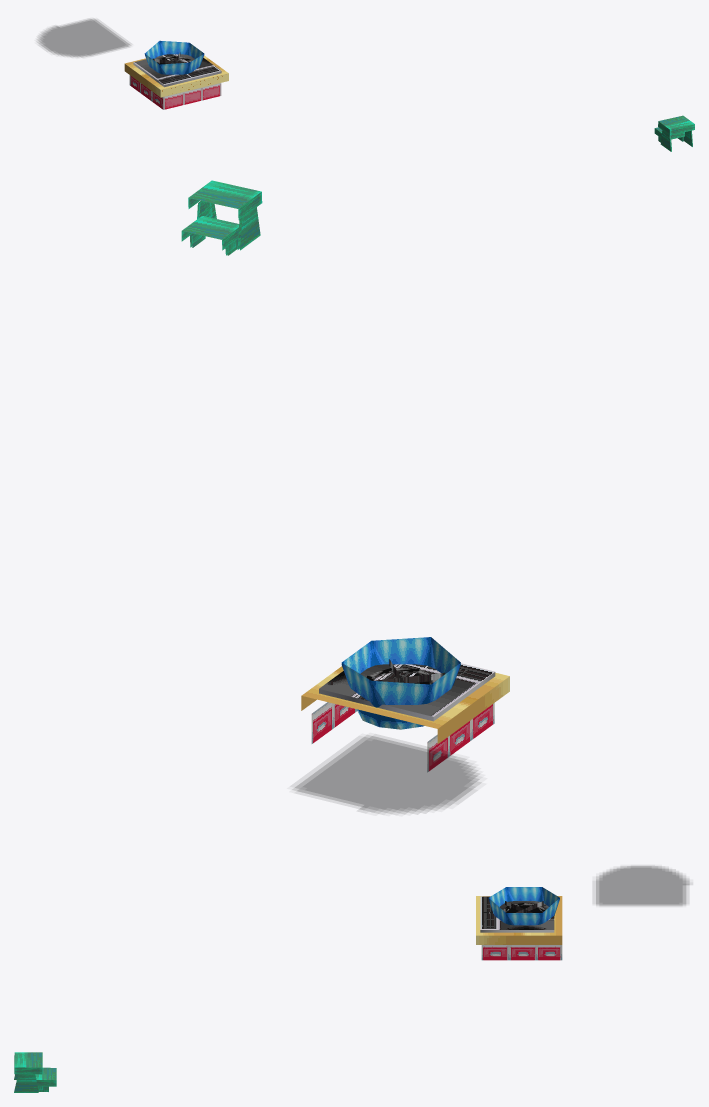
3 renders of one model, top to bottom at view 1: azimuth 30°, elevation 25°; view 2: azimuth 150°, elevation 25°; view 3: azimuth 270°, elevation 25°, orthographic. The views are drawn at different scales.
Parts seen in each view (by area): view 1: uma_ct_pan00; view 2: uma_ct_pan00; view 3: uma_ct_pan00.
Boxes of the visible parts, x1,y1,x2,y2 form: uma_ct_pan00: [37, 19, 694, 151]; uma_ct_pan00: [181, 180, 509, 813]; uma_ct_pan00: [14, 866, 689, 1092].
Size of what is drawn, in the model's own units: 5.39 by 0.6118 by 6.69.
Materials: 9 (9 with a texture image).
